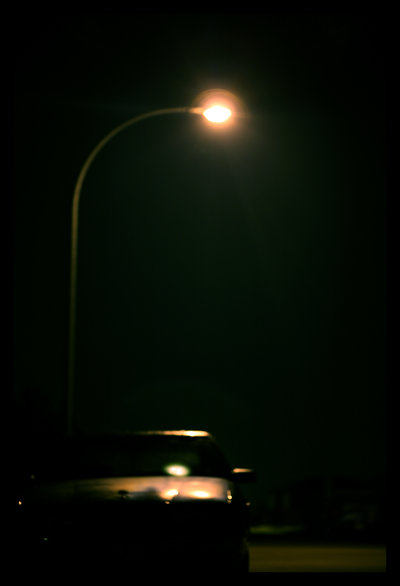car: (6, 420, 261, 584)
